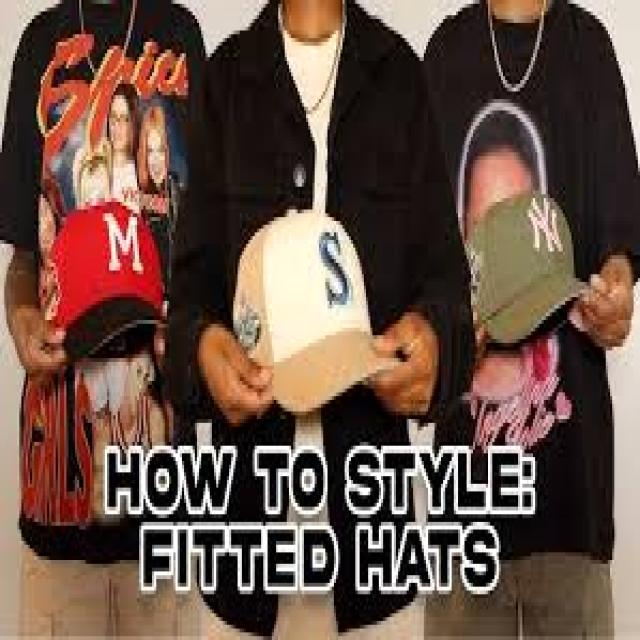hat: (234, 210, 395, 415), (467, 191, 586, 346), (48, 202, 162, 361)
